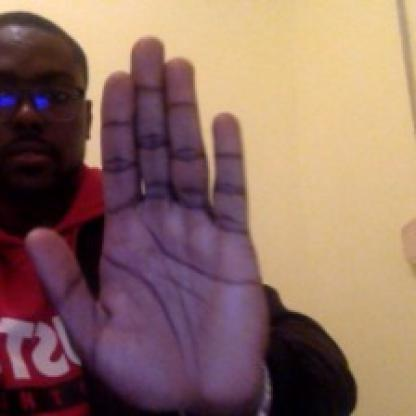TURN LEFT: (23, 24, 303, 415)
